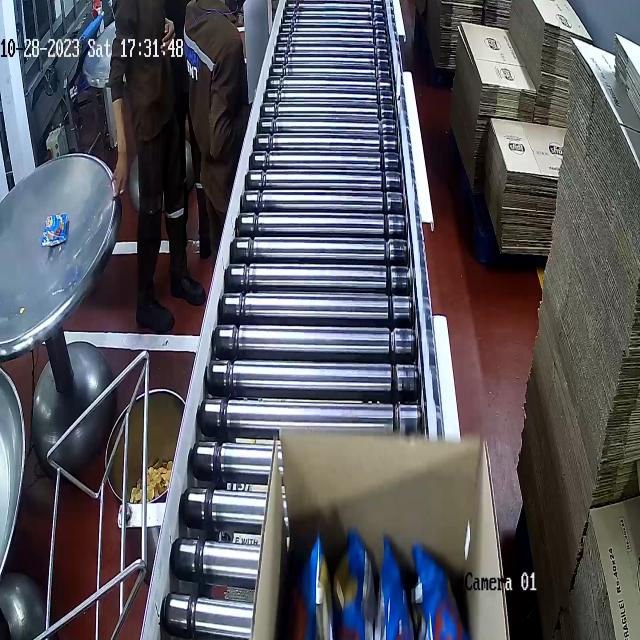PAPRIKA: (288, 513, 463, 640)
